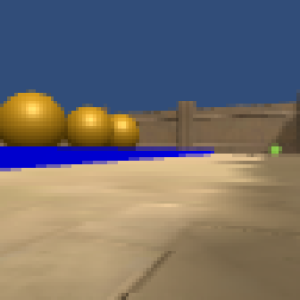goodGoal: (270, 143, 284, 156)
goodGoalMulti: (1, 93, 64, 147), (66, 102, 112, 147), (112, 111, 143, 148)
platform: (1, 148, 218, 168)
